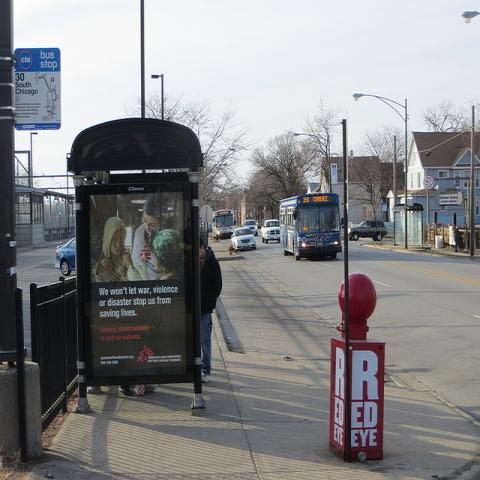bus: (280, 193, 344, 262), (212, 210, 236, 240)
car: (348, 220, 387, 242), (55, 238, 76, 277), (231, 226, 256, 252), (260, 219, 281, 243), (244, 220, 258, 236), (208, 223, 213, 232)
